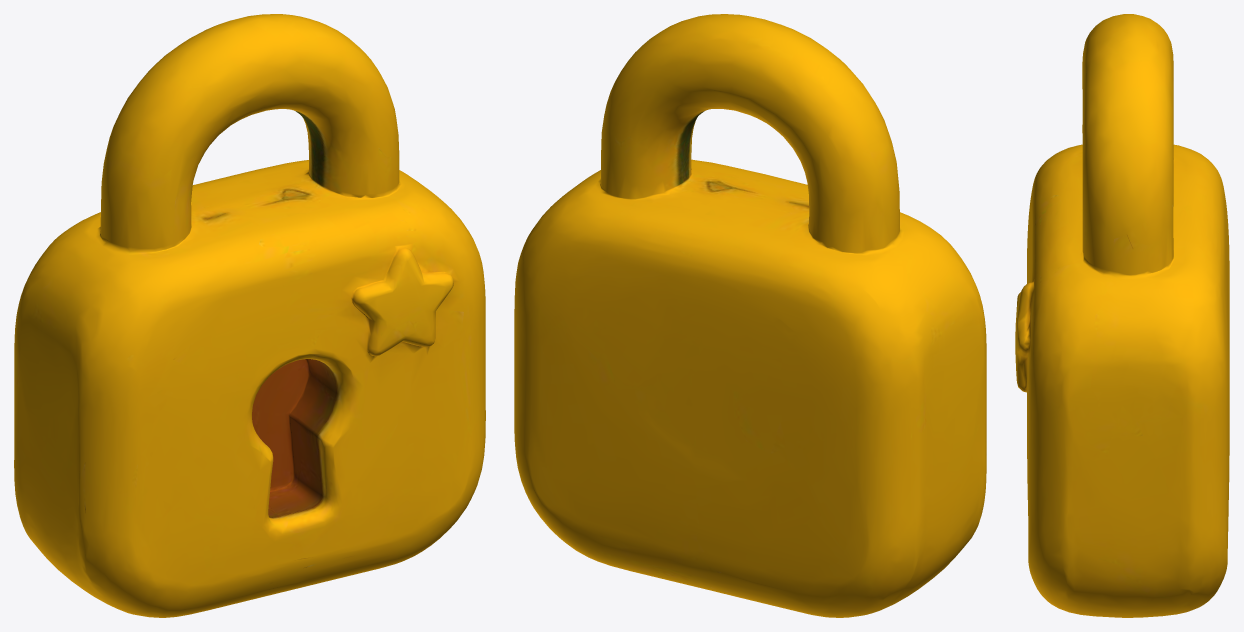
Rendered from lock.glb.
The picture shows the model from 3 angles, left to right: view 1: azimuth 30°, elevation 25°; view 2: azimuth 150°, elevation 25°; view 3: azimuth 270°, elevation 25°; orthographic projection. The views are drawn at different scales.
Visible parts, largest first — view 1: tripo_node_fdf5fcbc-0772-4664-8d1c-f7c7bdac307a; view 2: tripo_node_fdf5fcbc-0772-4664-8d1c-f7c7bdac307a; view 3: tripo_node_fdf5fcbc-0772-4664-8d1c-f7c7bdac307a.
Boxes of the visible parts, x1,y1,x2,y2 form: tripo_node_fdf5fcbc-0772-4664-8d1c-f7c7bdac307a: (14,14,485,617); tripo_node_fdf5fcbc-0772-4664-8d1c-f7c7bdac307a: (514,14,986,617); tripo_node_fdf5fcbc-0772-4664-8d1c-f7c7bdac307a: (1015,14,1229,617).
Bounding box in the file's own units: 0.7569 × 0.9797 × 0.3601.
1 material, 1 textured.
